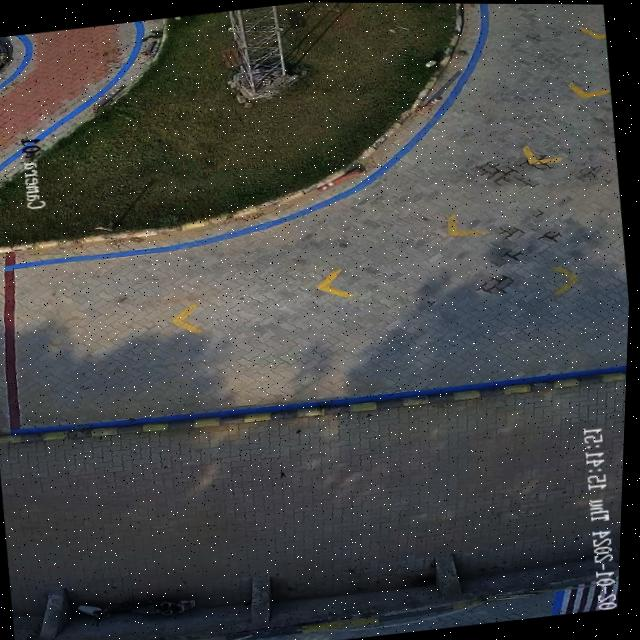No Car: (0, 2, 631, 640)
